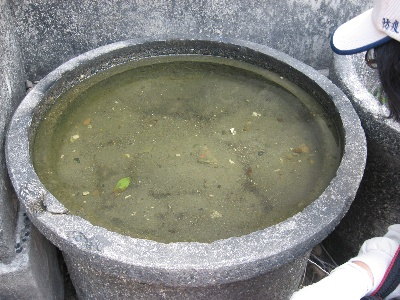bowl: (7, 33, 367, 300)
